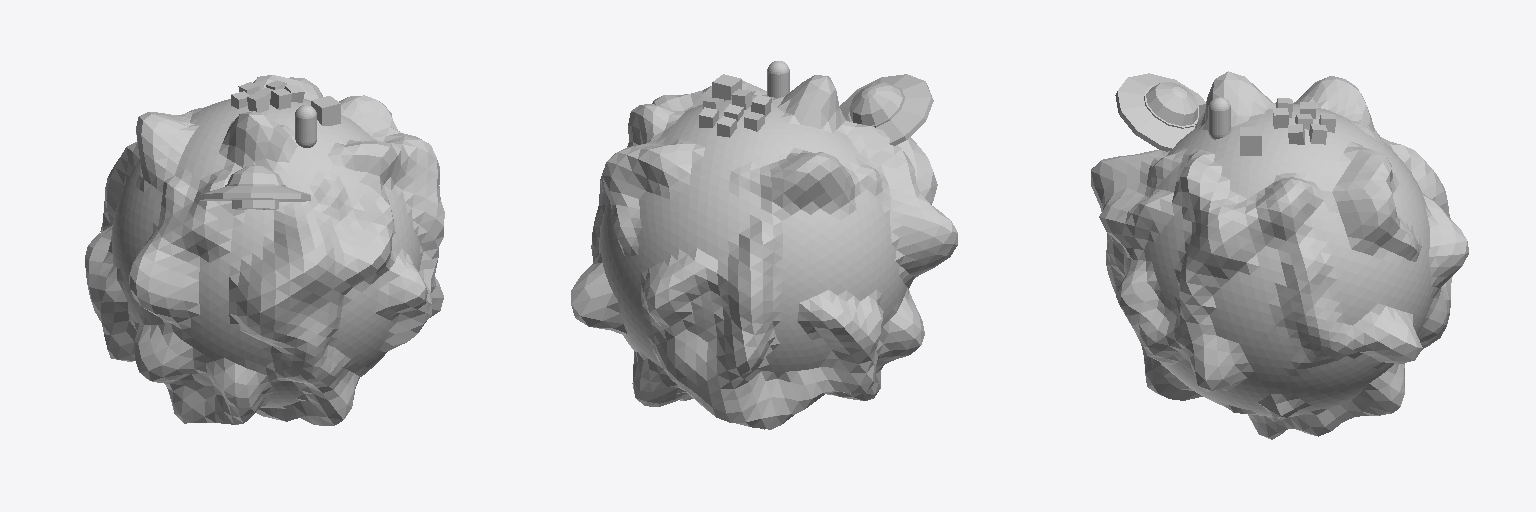
File: scene-01-greetings.obj
3 views of the same model, side by side, from view 1: azimuth 30°, elevation 25°; view 2: azimuth 150°, elevation 25°; view 3: azimuth 270°, elevation 25° (orthographic).
Visible parts, largest first — view 1: Icosphere.001, Circle.002, Sphere, Cube; view 2: Icosphere.001, Circle.002, Sphere, Cube; view 3: Icosphere.001, Circle.002, Sphere, Cube.
Boxes of the visible parts, <box> form: Icosphere.001: <box>85,75,444,425</box>; Circle.002: <box>199,165,310,209</box>; Sphere: <box>295,105,316,147</box>; Cube: <box>311,96,340,125</box>; Icosphere.001: <box>571,75,957,429</box>; Circle.002: <box>840,74,933,145</box>; Sphere: <box>767,61,789,97</box>; Cube: <box>712,74,741,100</box>; Icosphere.001: <box>1091,71,1468,439</box>; Circle.002: <box>1115,73,1205,151</box>; Sphere: <box>1208,97,1230,139</box>; Cube: <box>1240,127,1261,155</box>.
Bounding box in the file's own units: 17.24 × 17.82 × 18.15.